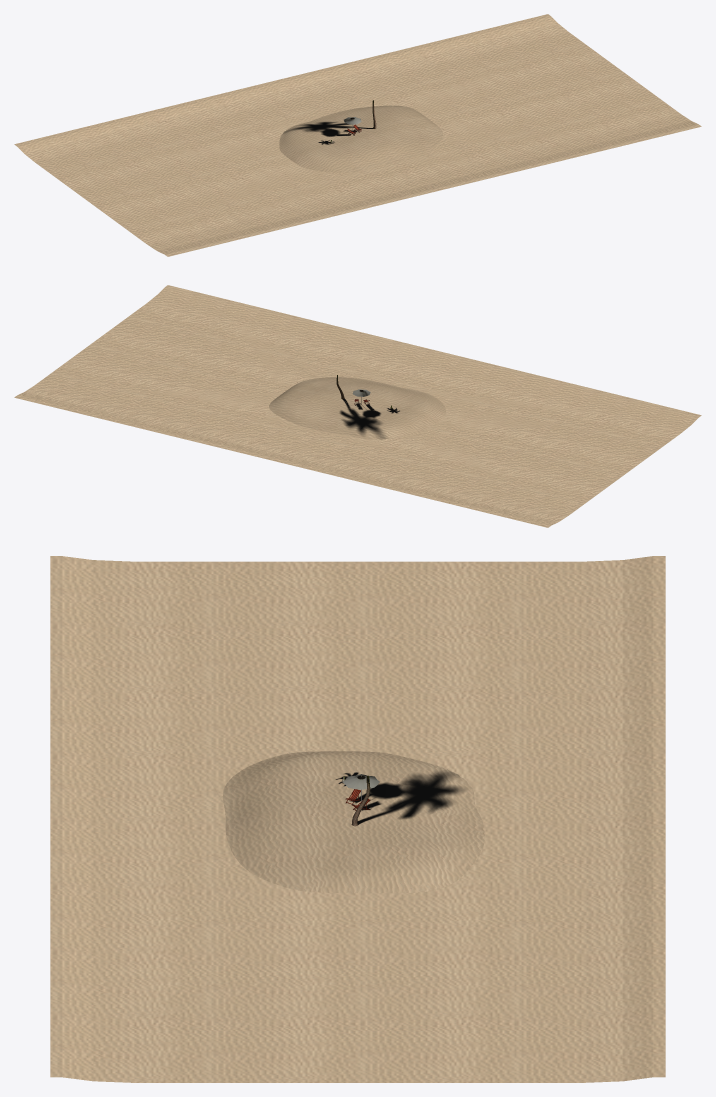
Rendered from world_1.glb.
3 renders of one model, top to bottom at view 1: azimuth 30°, elevation 25°; view 2: azimuth 150°, elevation 25°; view 3: azimuth 270°, elevation 25°, orthographic. The views are drawn at different scales.
Visible parts, largest first — view 1: Sand, SandSm; view 2: Sand, SandSm; view 3: Sand, SandSm.
Boxes of the visible parts, box(x1,y1,x2,y2) form: Sand: box(14, 14, 701, 256); SandSm: box(279, 105, 442, 172); Sand: box(14, 285, 701, 527); SandSm: box(269, 377, 445, 439); Sand: box(50, 556, 665, 1082); SandSm: box(222, 751, 484, 893).
Size of what is drawn, in the model's own units: 100 by 5.67 by 49.9.
6 materials, 6 textured.
